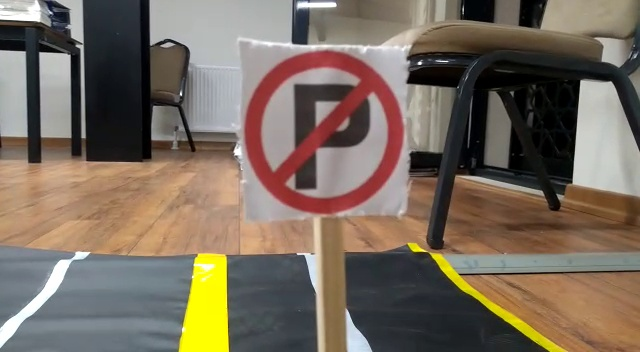park_yapilmaz: (240, 41, 404, 215)
